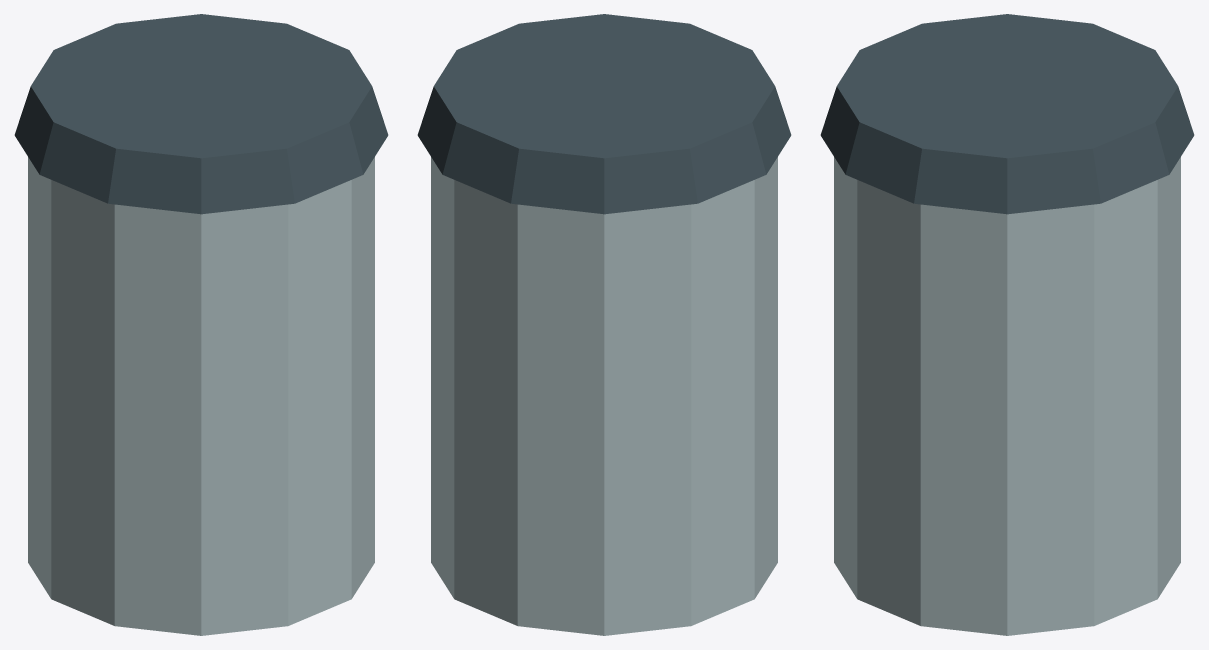
The model's file is FTF_Prop_TrashBin_SteelRound.glb.
The picture shows the model from 3 angles, left to right: view 1: azimuth 30°, elevation 25°; view 2: azimuth 150°, elevation 25°; view 3: azimuth 270°, elevation 25°; orthographic projection.
Parts seen in each view (by area): view 1: FTF_Prop_TrashBin_SteelRound_Mesh; view 2: FTF_Prop_TrashBin_SteelRound_Mesh; view 3: FTF_Prop_TrashBin_SteelRound_Mesh.
Part boxes in pixels (left/top/right/bottom): FTF_Prop_TrashBin_SteelRound_Mesh: left=14, top=14, right=388, bottom=635; FTF_Prop_TrashBin_SteelRound_Mesh: left=417, top=14, right=791, bottom=635; FTF_Prop_TrashBin_SteelRound_Mesh: left=820, top=14, right=1194, bottom=635.
Size of the model in its own units: 0.69 by 0.97 by 0.69.
